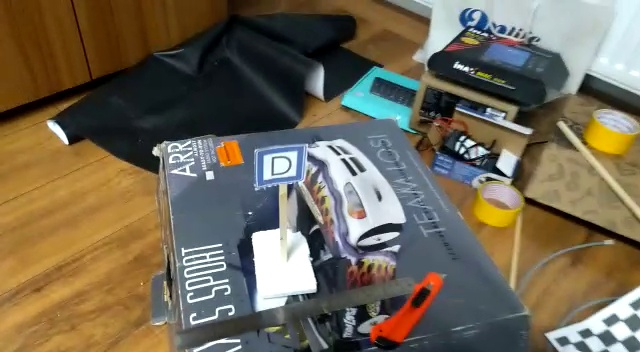durak: (258, 148, 307, 184)
